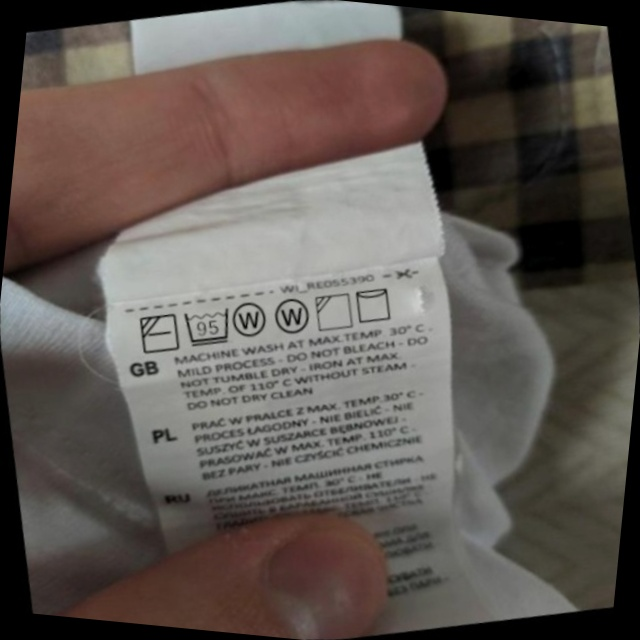95C: (176, 297, 240, 355)
dry_flat_in_shade: (131, 304, 187, 362)
line_dry: (347, 277, 402, 332)
shade_dry: (307, 284, 361, 339)
wet_clean: (266, 290, 319, 344), (225, 291, 277, 346)
